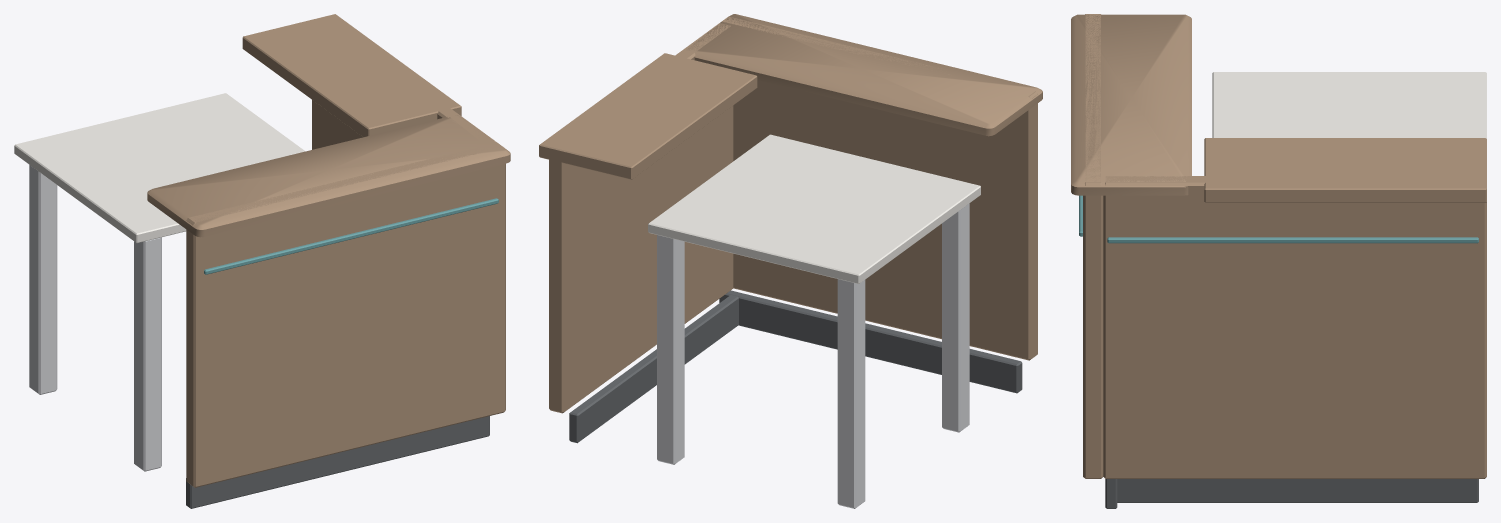
The model's file is hotel-and-resort-operations-check-in-desk-corner-06c885b6__25854.glb.
3 views of the same model, side by side, from view 1: azimuth 30°, elevation 25°; view 2: azimuth 150°, elevation 25°; view 3: azimuth 270°, elevation 25° (orthographic). The views are drawn at different scales.
Parts seen in each view (by area): view 1: check-in-desk-corner; view 2: check-in-desk-corner; view 3: check-in-desk-corner.
Part boxes in pixels (box(x1,y1,x2,y2)): check-in-desk-corner: box(14, 14, 510, 508); check-in-desk-corner: box(539, 14, 1042, 508); check-in-desk-corner: box(1071, 14, 1486, 508).
Bounding box in the file's own units: 1.03 × 0.9 × 1.03.
